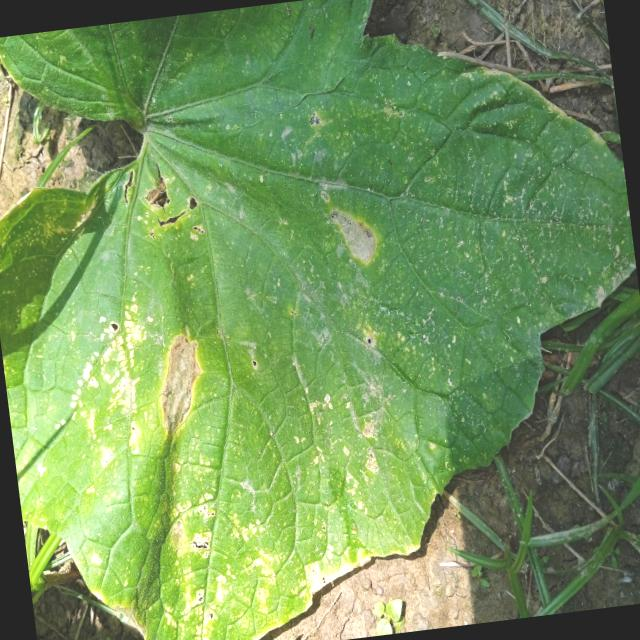cucumber_anthracnose: (1, 136, 469, 499), (137, 483, 248, 640), (250, 84, 367, 142)
